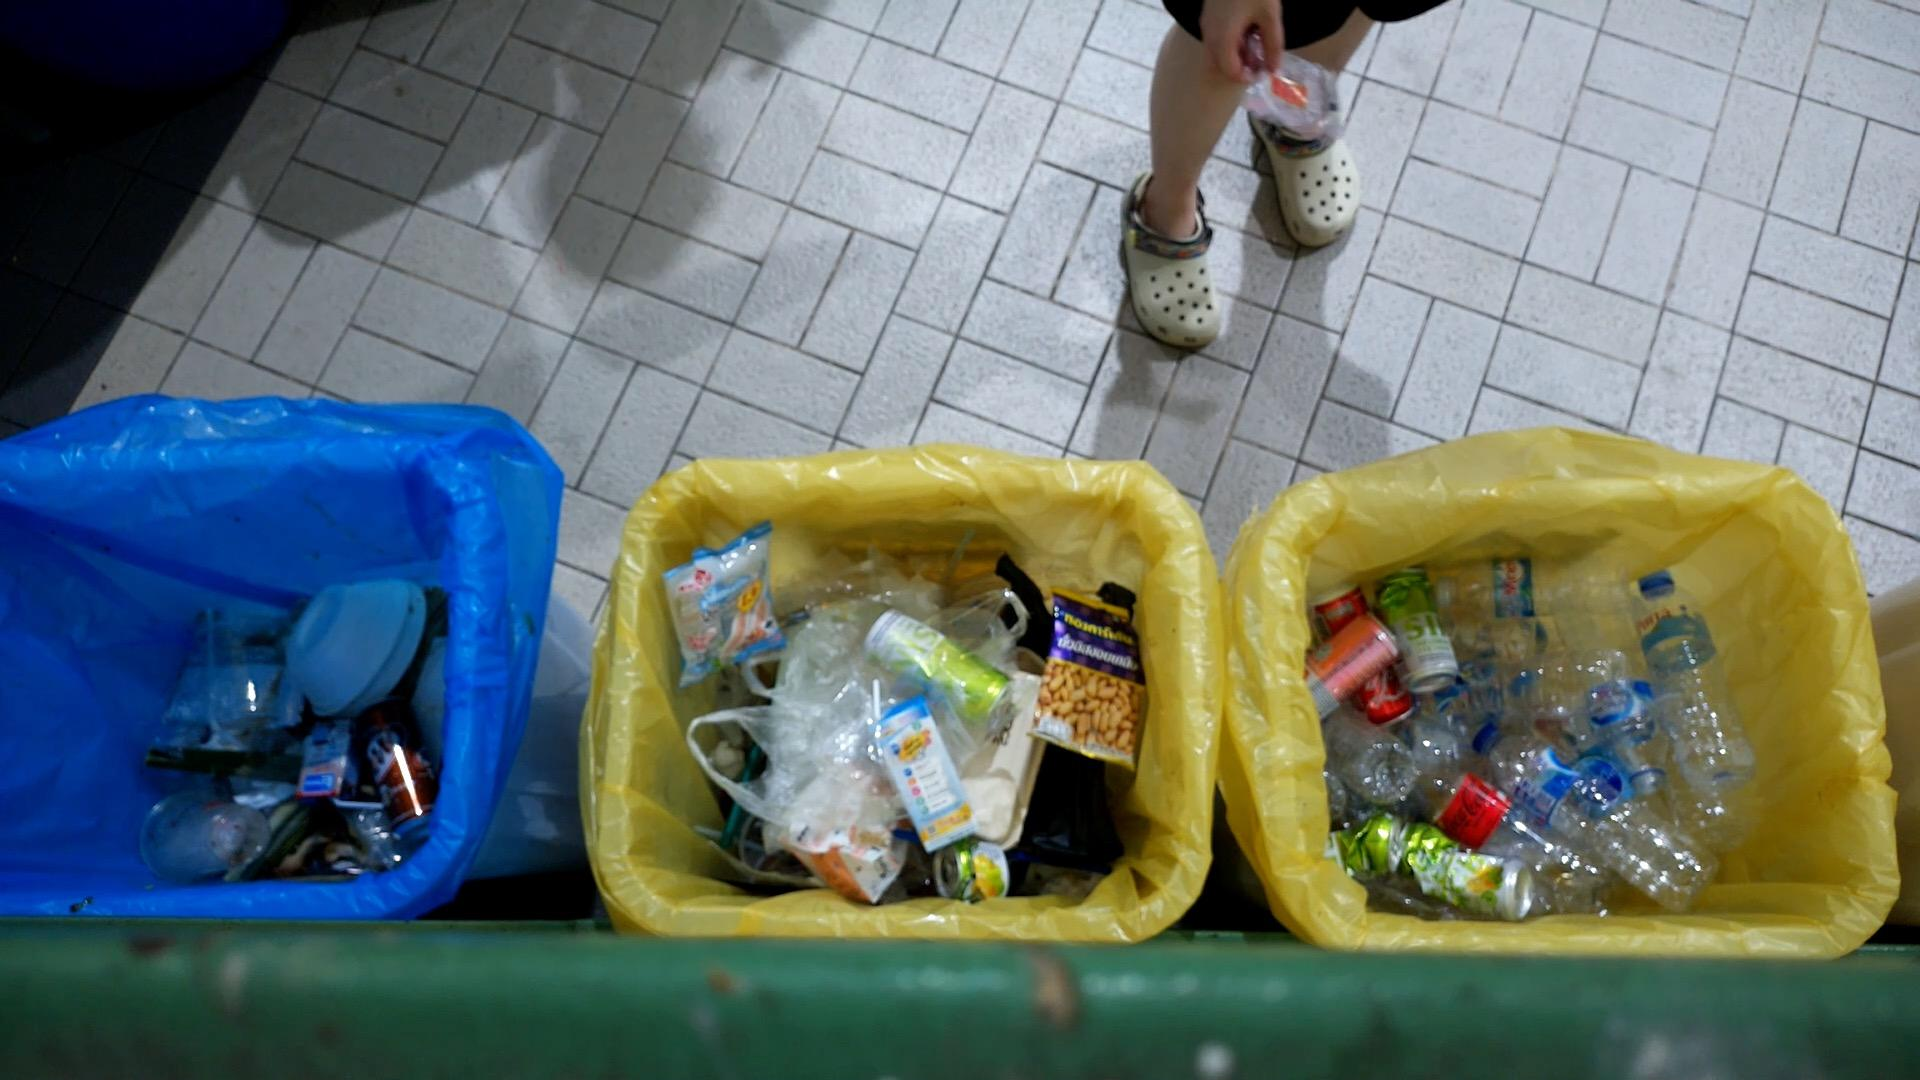can: (866, 605, 1017, 735), (1307, 579, 1407, 727), (1400, 823, 1531, 920), (359, 704, 447, 847), (1303, 605, 1403, 716), (1374, 570, 1457, 700), (931, 831, 1011, 901), (1331, 814, 1412, 882)
food container: (284, 576, 429, 725)
milk carton: (864, 679, 984, 853), (293, 719, 359, 806)
plastic bag: (688, 608, 1051, 829)
plastic bottle: (1469, 725, 1720, 919), (1407, 753, 1606, 914), (1548, 559, 1667, 799), (1639, 568, 1759, 793), (1419, 645, 1636, 740), (1427, 558, 1667, 624)
plastic cup: (140, 789, 273, 885)
snack packaging: (655, 522, 789, 690), (1029, 593, 1147, 775), (146, 608, 286, 754), (785, 774, 914, 906), (1244, 50, 1349, 145)
